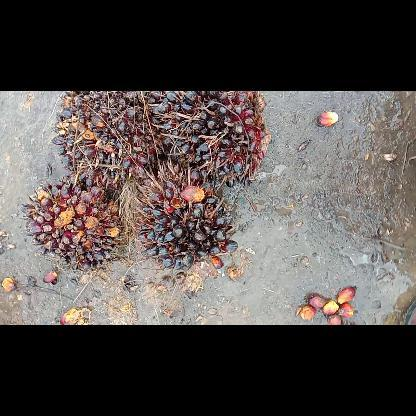TBS abnormal: (144, 92, 274, 192), (131, 162, 242, 276)
TBS masak: (49, 90, 169, 194), (19, 172, 127, 272)
